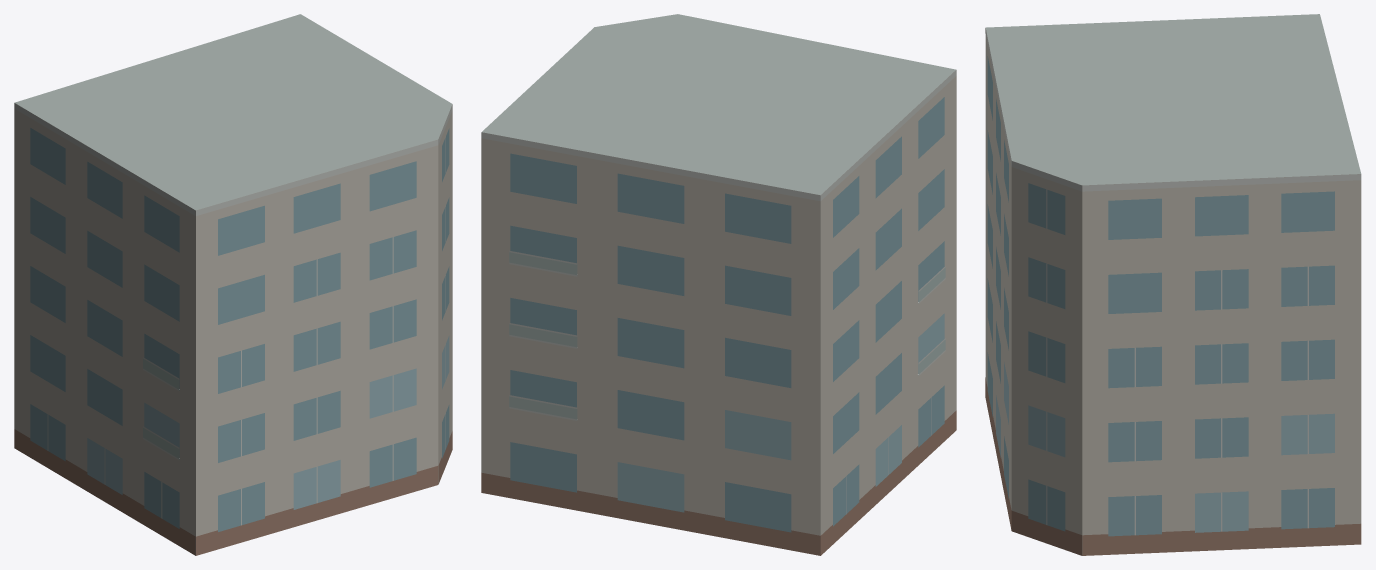
File: survey-upis-32664225.glb
3 views of the same model, side by side, from view 1: azimuth 30°, elevation 25°; view 2: azimuth 150°, elevation 25°; view 3: azimuth 270°, elevation 25° (orthographic). The views are drawn at different scales.
Parts seen in each view (by area): view 1: survey-upis-32664225.tmp; view 2: survey-upis-32664225.tmp; view 3: survey-upis-32664225.tmp.
Boxes of the visible parts, x1=… form: survey-upis-32664225.tmp: x1=14, y1=14, x2=452, y2=555; survey-upis-32664225.tmp: x1=481, y1=14, x2=956, y2=555; survey-upis-32664225.tmp: x1=985, y1=14, x2=1361, y2=555.
Bounding box in the file's own units: 14.5 × 14.6 × 13.43.
